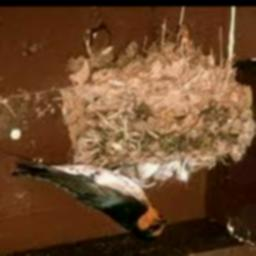Swallow: (12, 161, 167, 240)
